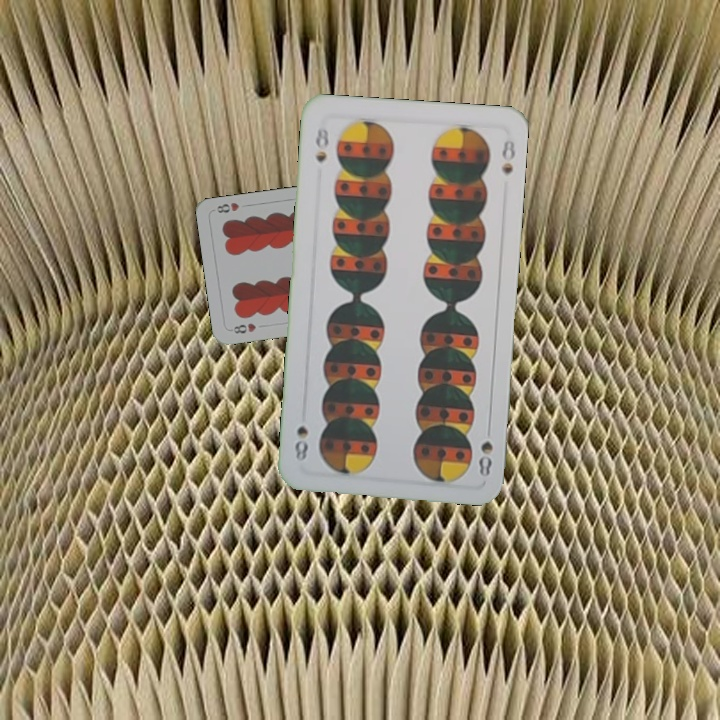H8: (227, 319, 259, 336)
S8: (475, 436, 495, 479), (312, 123, 332, 165)
